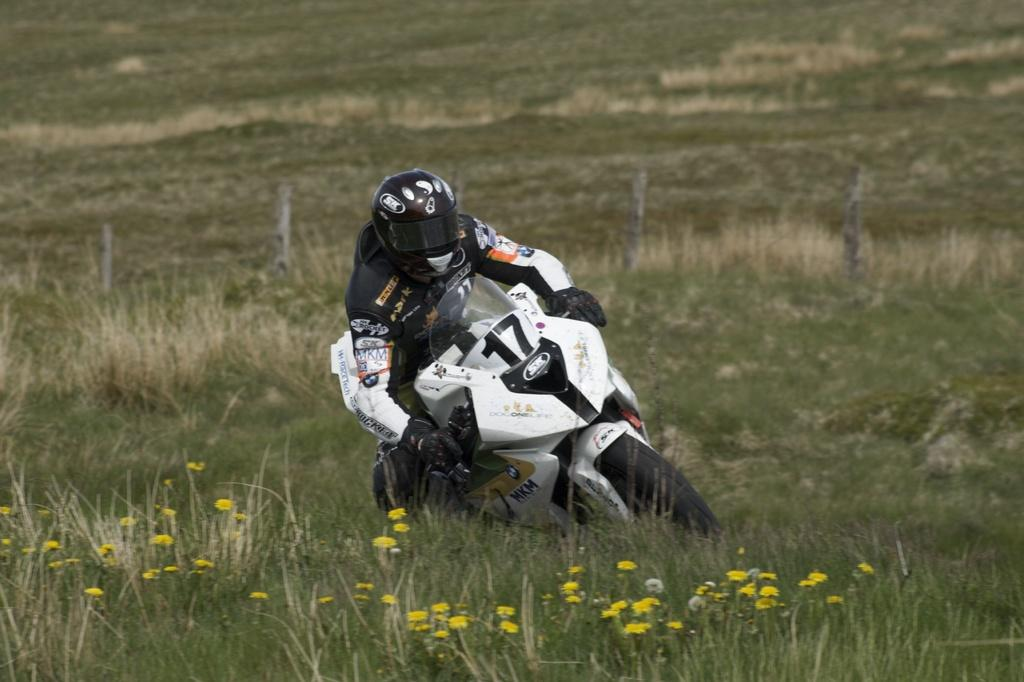helmet: (371, 170, 461, 277)
